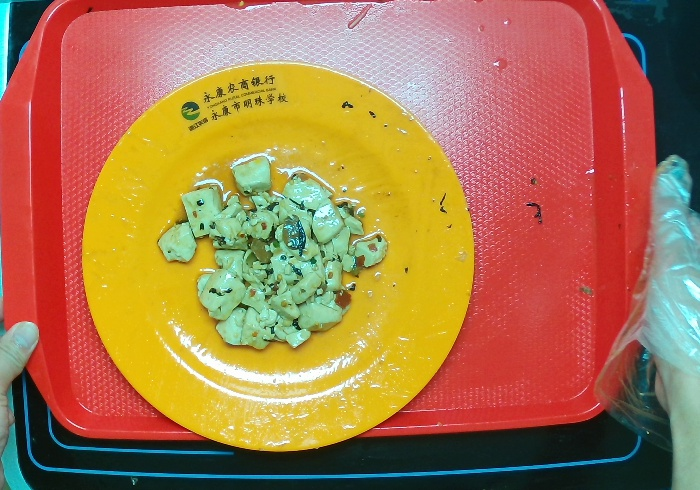YKMZ-Ju_Se_Mian_Pan: (74, 50, 503, 467)
